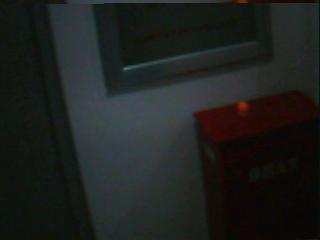oball: (239, 101, 249, 111)
